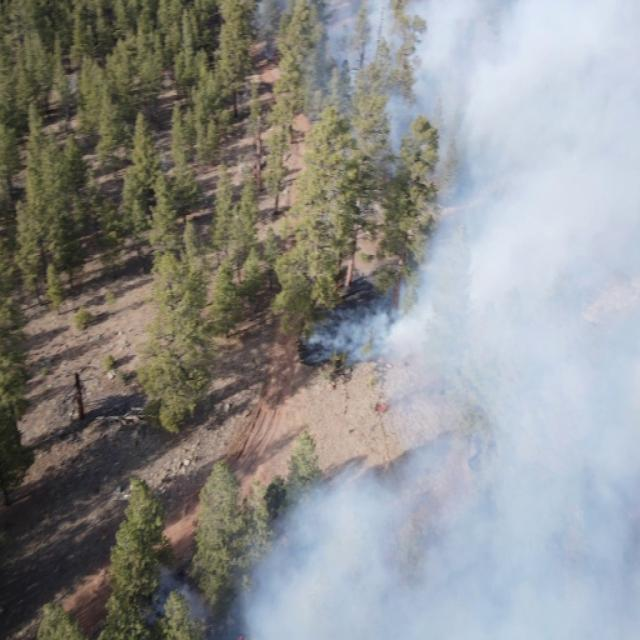fire: (234, 630, 247, 640)
smoke: (256, 1, 640, 640), (149, 556, 257, 640), (154, 149, 184, 186), (59, 73, 85, 114)
